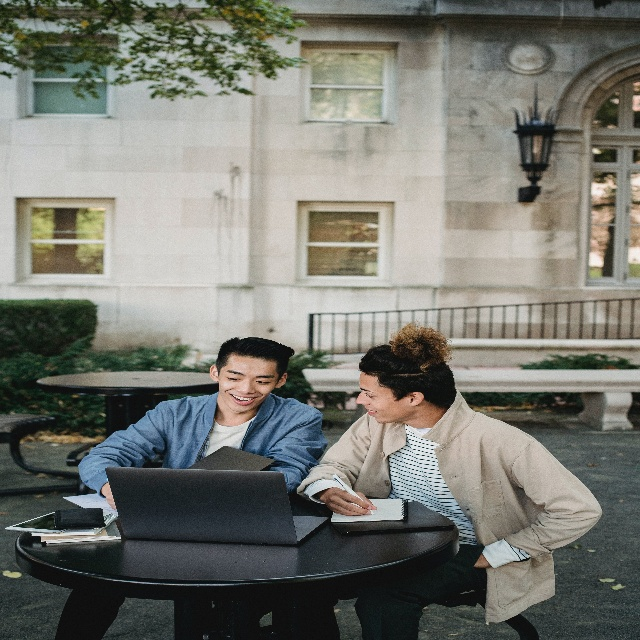Sin_guantes: (326, 485, 377, 516)
